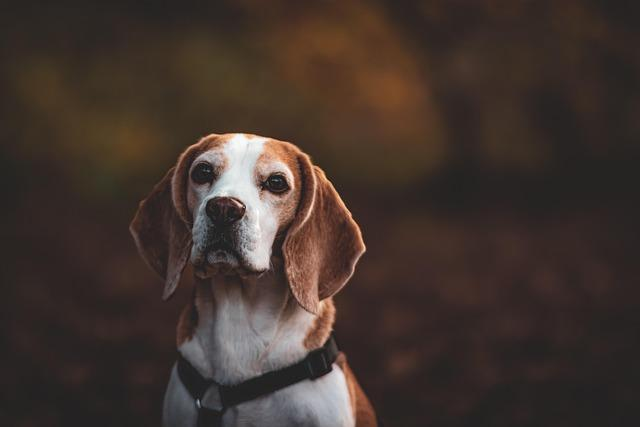Non_Gorille: (110, 57, 384, 427)
